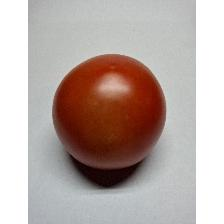Tomate: (50, 48, 170, 172)
